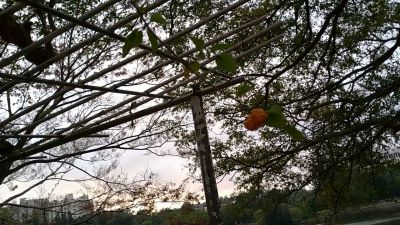eggs: (242, 105, 268, 131)
